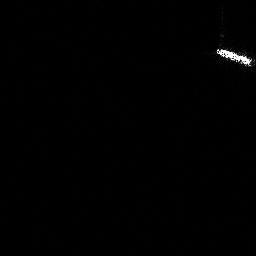ship: (211, 44, 256, 70)
